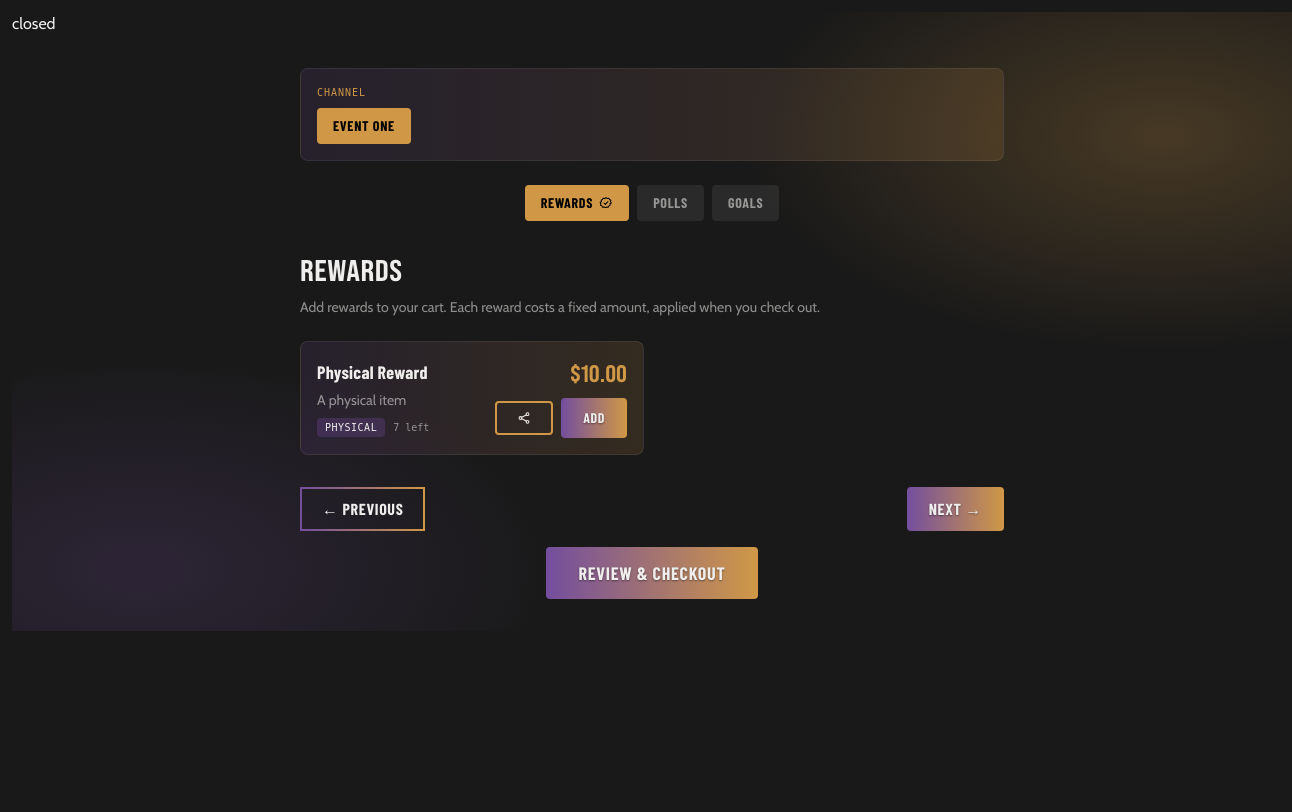
it: DonateFlow (tabbed browse page) › adds a reward to the cart without collecting an address (Stripe collects it)
Click the button "add". click: (594, 418)
box: [561,398,627,438]
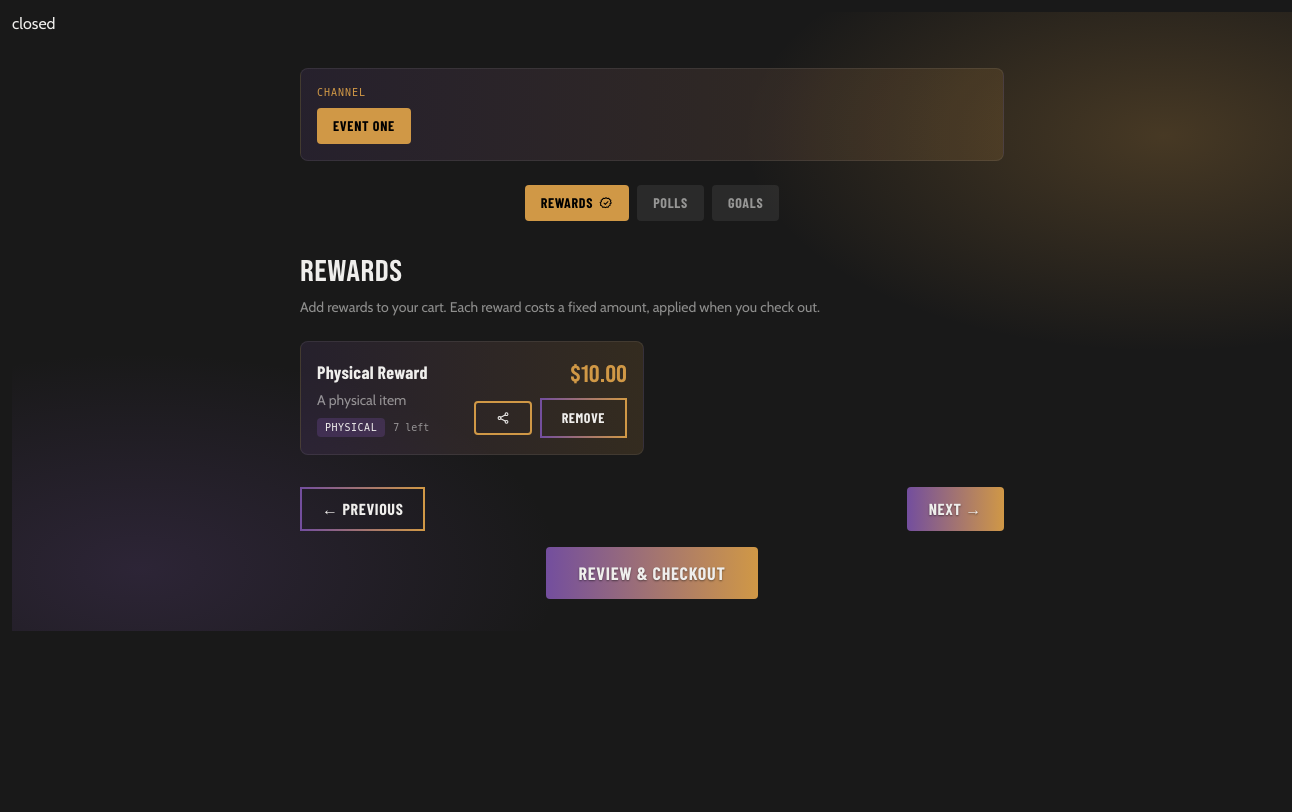
Expected: the button "remove" is shown, [540,398,627,438]
